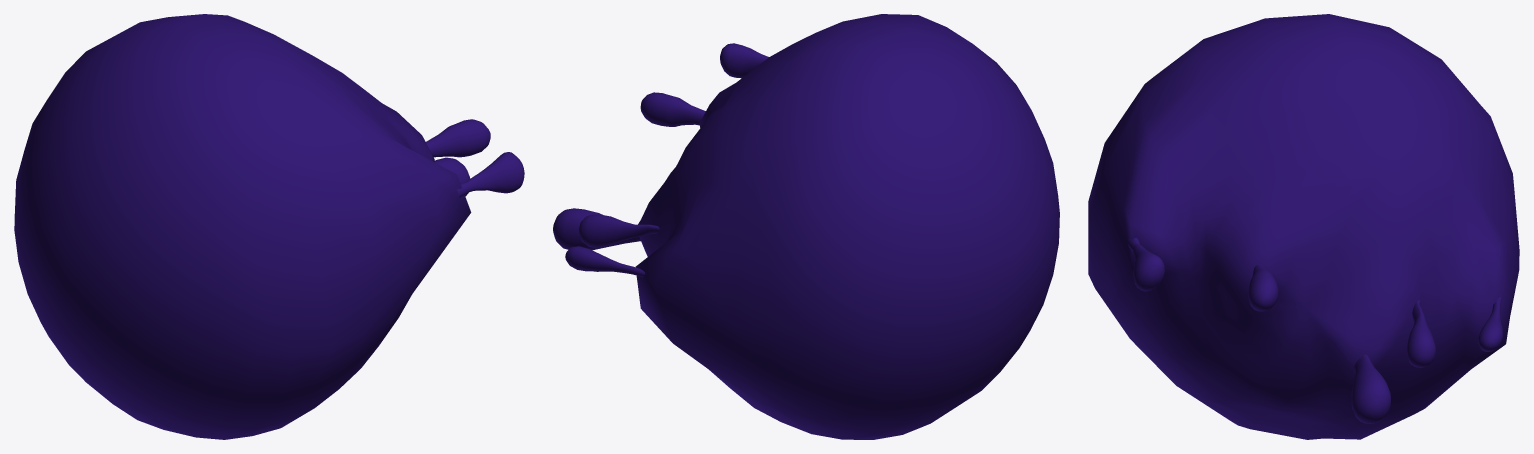
Rendered from bullet_navy.fbx.
The picture shows the model from 3 angles, left to right: view 1: azimuth 30°, elevation 25°; view 2: azimuth 150°, elevation 25°; view 3: azimuth 270°, elevation 25°; orthographic projection. The views are drawn at different scales.
Visible parts, largest first — view 1: pasted__pasted__pasted__polySurface21; view 2: pasted__pasted__pasted__polySurface21; view 3: pasted__pasted__pasted__polySurface21.
Part boxes in pixels (left/top/right/bottom): pasted__pasted__pasted__polySurface21: left=14, top=14, right=524, bottom=439; pasted__pasted__pasted__polySurface21: left=553, top=14, right=1059, bottom=439; pasted__pasted__pasted__polySurface21: left=1088, top=14, right=1519, bottom=439.
Size of the model in its own units: 2.26 by 1.88 by 1.87.
